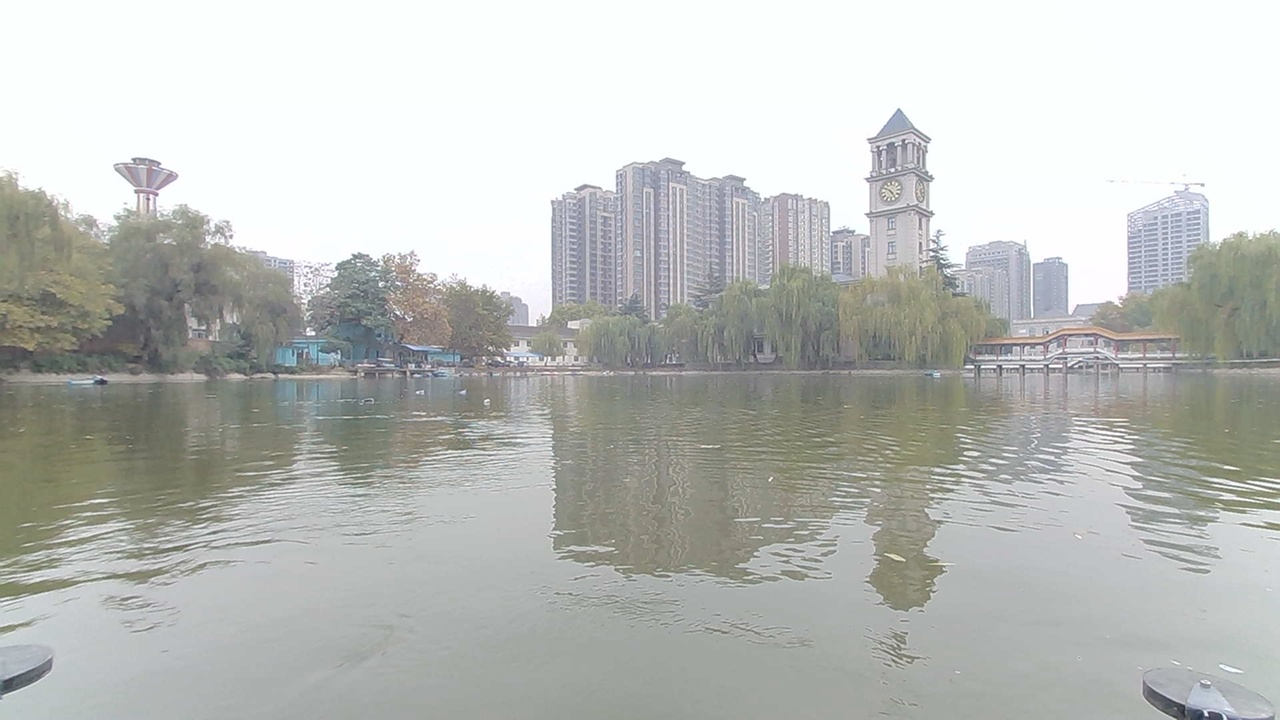bottle: (351, 387, 387, 417), (404, 378, 430, 404), (474, 385, 498, 413), (447, 380, 473, 399)
